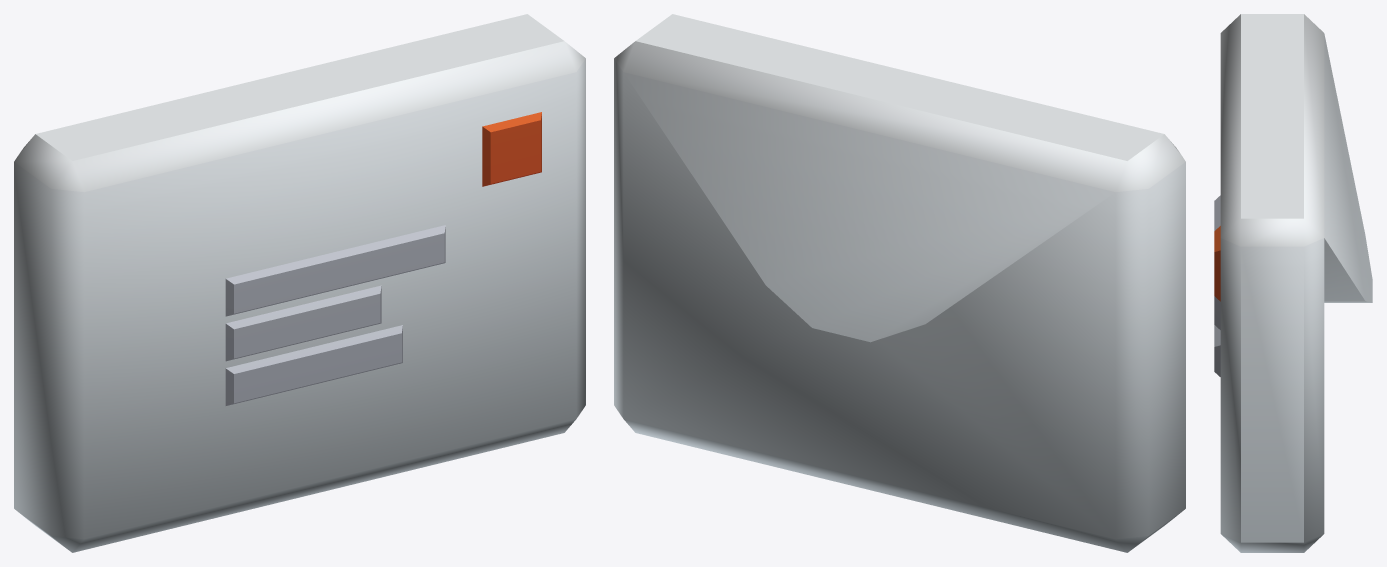
The model's file is letter.fbx.
3 renders of one model, left to right at view 1: azimuth 30°, elevation 25°; view 2: azimuth 150°, elevation 25°; view 3: azimuth 270°, elevation 25°, orthographic. The views are drawn at different scales.
Visible parts, largest first — view 1: letter; view 2: letter; view 3: letter.
Part boxes in pixels (box(x1,y1,x2,y2)): letter: box(14, 14, 585, 552); letter: box(614, 14, 1185, 552); letter: box(1214, 14, 1372, 552).
Size of the model in its own units: 0.5 by 0.35 by 0.15.
